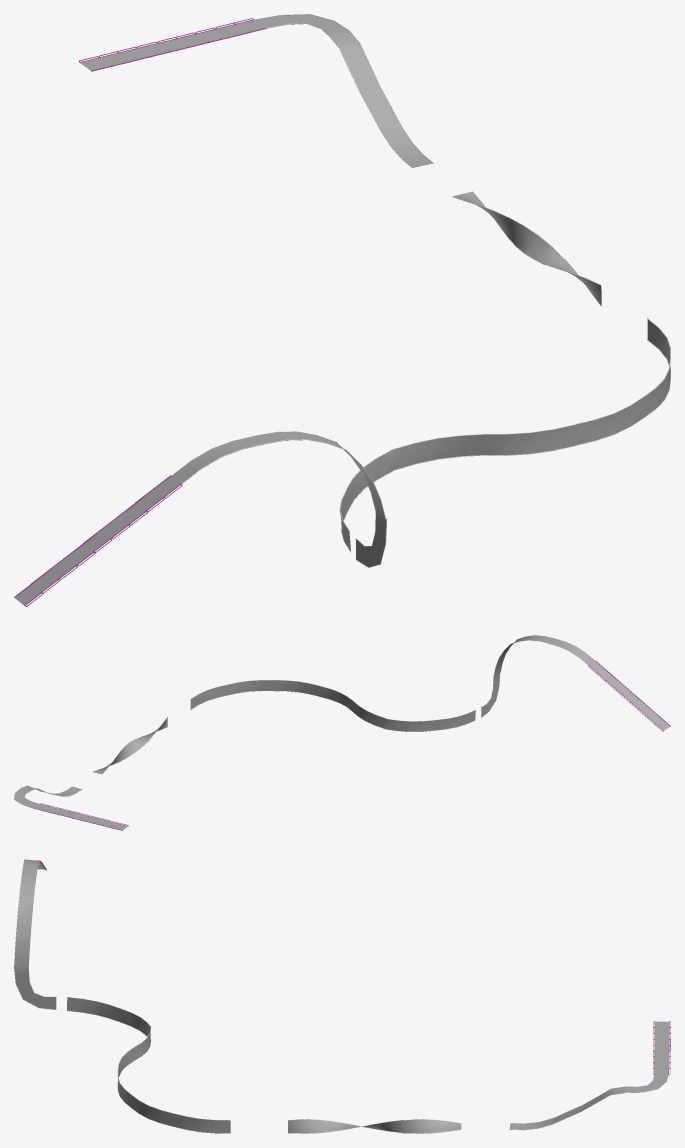
File: Track 2.2 .fbx
The picture shows the model from 3 angles, top to bottom: view 1: azimuth 30°, elevation 25°; view 2: azimuth 150°, elevation 25°; view 3: azimuth 270°, elevation 25°; orthographic projection. The views are drawn at different scales.
Parts seen in each view (by area): view 1: polySurface3, polySurface1, polySurface4, polySurface5, polySurface2; view 2: polySurface3, polySurface4, polySurface5, polySurface1, polySurface2; view 3: polySurface3, polySurface4, polySurface1, polySurface5, polySurface2.
Part boxes in pixels (x1=…): polySurface3: x1=340, y1=319, x2=670, y2=551; polySurface1: x1=80, y1=14, x2=432, y2=167; polySurface4: x1=15, y1=431, x2=386, y2=605; polySurface5: x1=14, y1=14, x2=670, y2=606; polySurface2: x1=453, y1=191, x2=601, y2=305; polySurface3: x1=190, y1=680, x2=475, y2=731; polySurface4: x1=481, y1=635, x2=670, y2=730; polySurface5: x1=14, y1=635, x2=670, y2=830; polySurface1: x1=14, y1=786, x2=127, y2=830; polySurface2: x1=93, y1=717, x2=167, y2=774; polySurface3: x1=67, y1=997, x2=230, y2=1133; polySurface4: x1=14, y1=859, x2=56, y2=1009; polySurface1: x1=509, y1=1021, x2=669, y2=1129; polySurface5: x1=14, y1=859, x2=670, y2=1133; polySurface2: x1=288, y1=1119, x2=461, y2=1133.
Bounding box in the file's own units: 120084 × 23660 × 136577.
